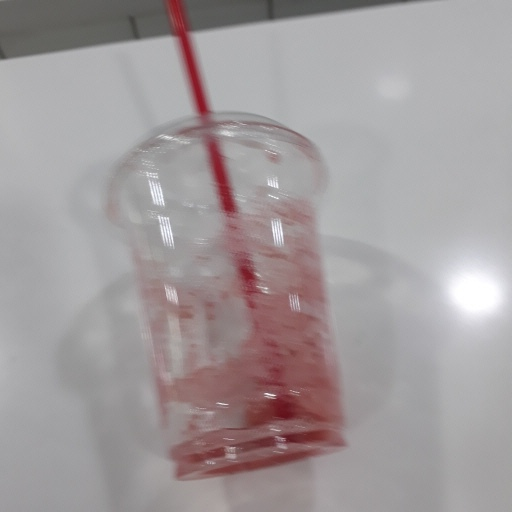Plastic_2: (101, 5, 349, 480)
